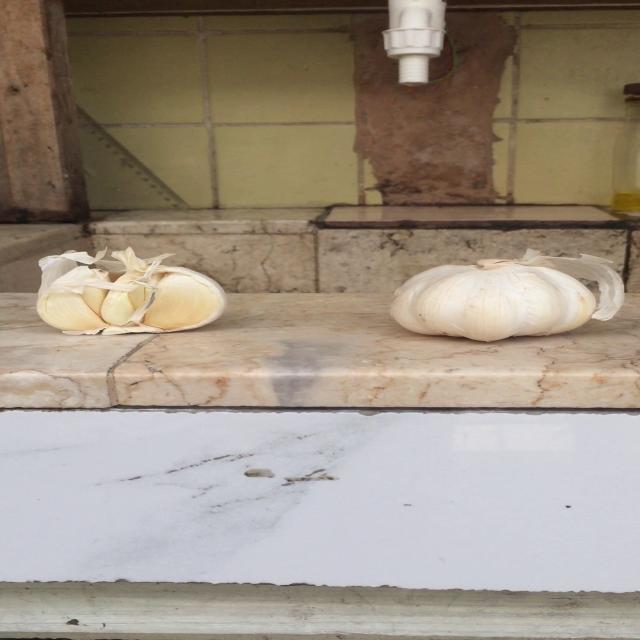bawang: (386, 248, 628, 343), (29, 248, 229, 336)
